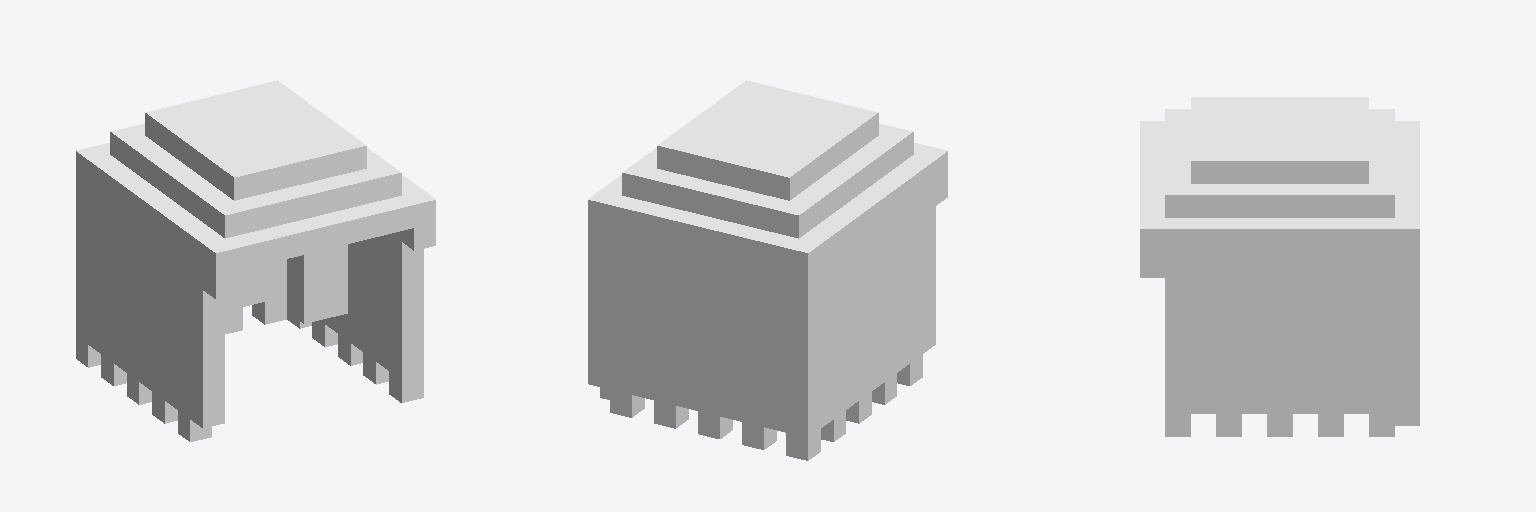
Rendered from EnemySkeleton1-1.obj.
3 renders of one model, left to right at view 1: azimuth 30°, elevation 25°; view 2: azimuth 150°, elevation 25°; view 3: azimuth 270°, elevation 25°, orthographic.
Visible parts, largest first — view 1: object 1; view 2: object 1; view 3: object 1.
Boxes of the visible parts, x1,y1,x2,y2 form: object 1: [76, 80, 435, 441]; object 1: [588, 80, 947, 460]; object 1: [1140, 97, 1419, 436].
Size of the model in its own units: 1 by 1.1 by 1.1.